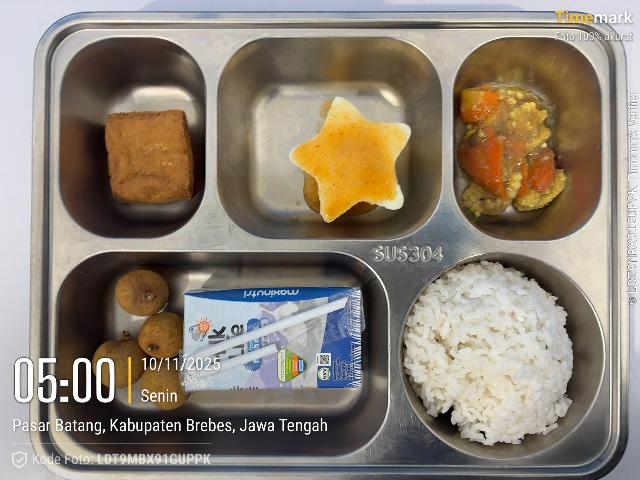buah: (92, 330, 190, 409), (116, 270, 180, 353)
nasi: (404, 261, 573, 445)
sayur: (457, 84, 567, 217)
susu: (183, 287, 365, 391)
tahu: (105, 110, 194, 204)
telur: (289, 97, 411, 222)
